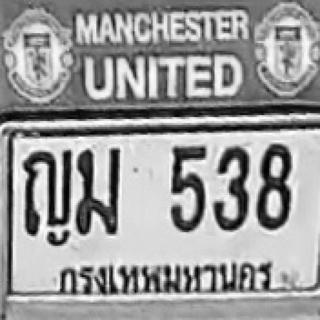A13: (22, 148, 72, 246)
A33: (75, 145, 121, 237)
N03: (212, 144, 251, 234)
N05: (169, 144, 207, 234)
N08: (255, 142, 292, 234)
P04: (49, 254, 274, 302)
